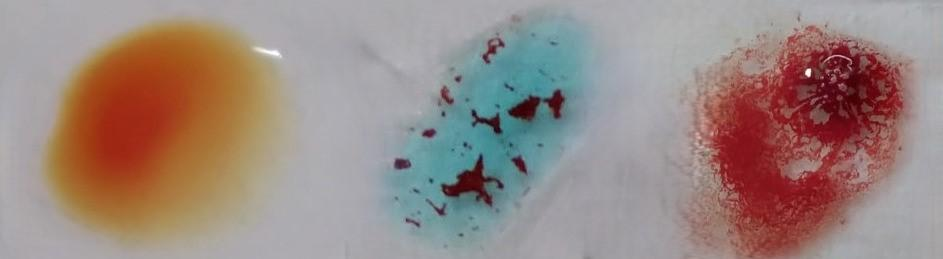A: (377, 17, 578, 255)
D: (694, 29, 903, 259)
